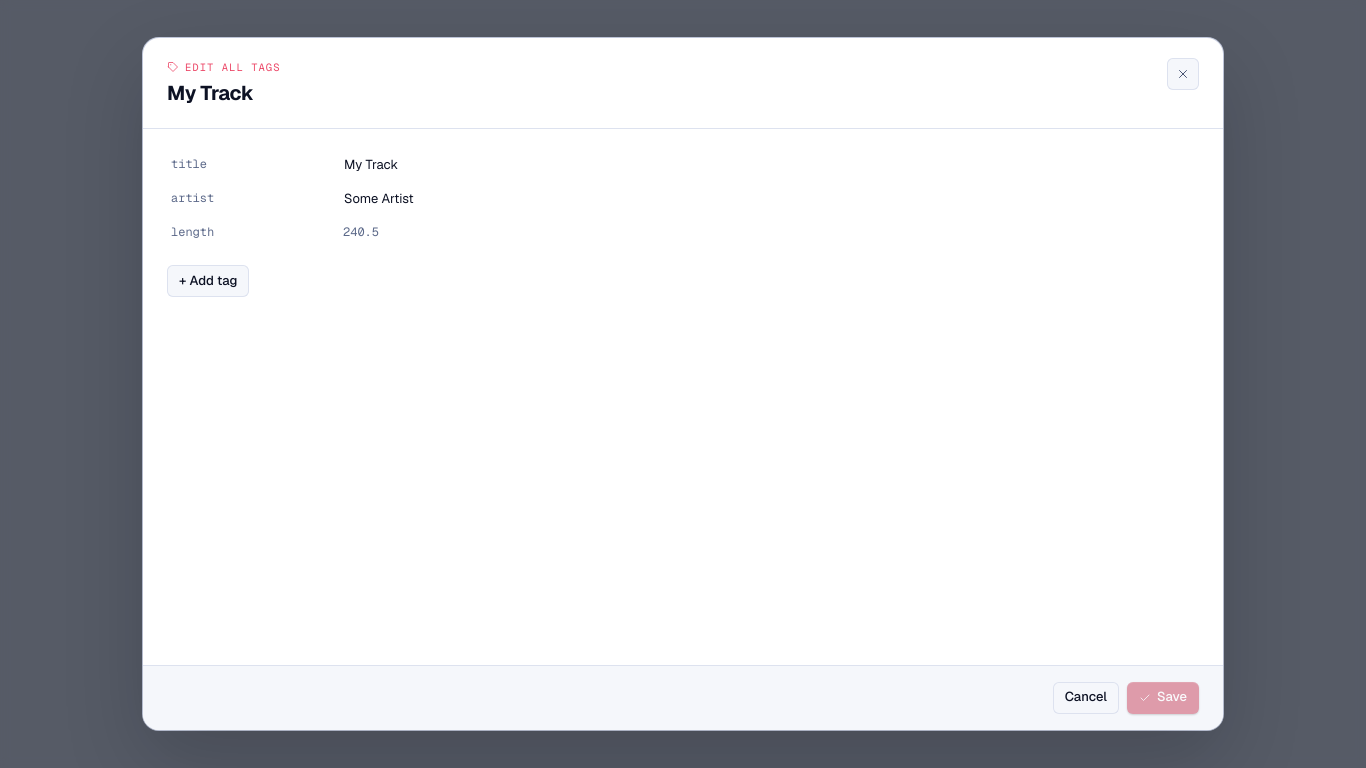
Test: ItemTagsEditor › shows error when PATCH returns non-ok status
Replace the text in the field showing "My Track" next to "title" with "Changed" at (753, 165), box [335,151,1171,179]
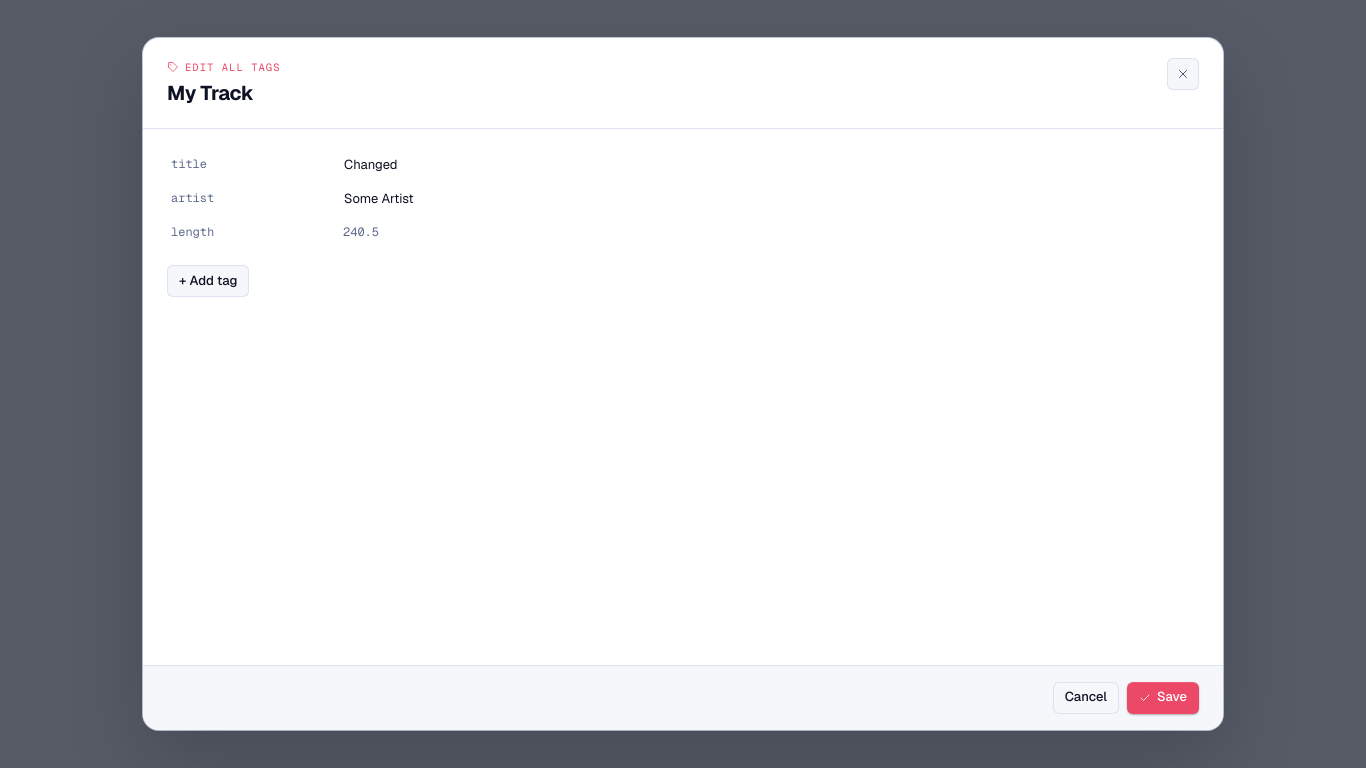
Click the button "Save" at (1163, 698), box [1127,682,1199,714]
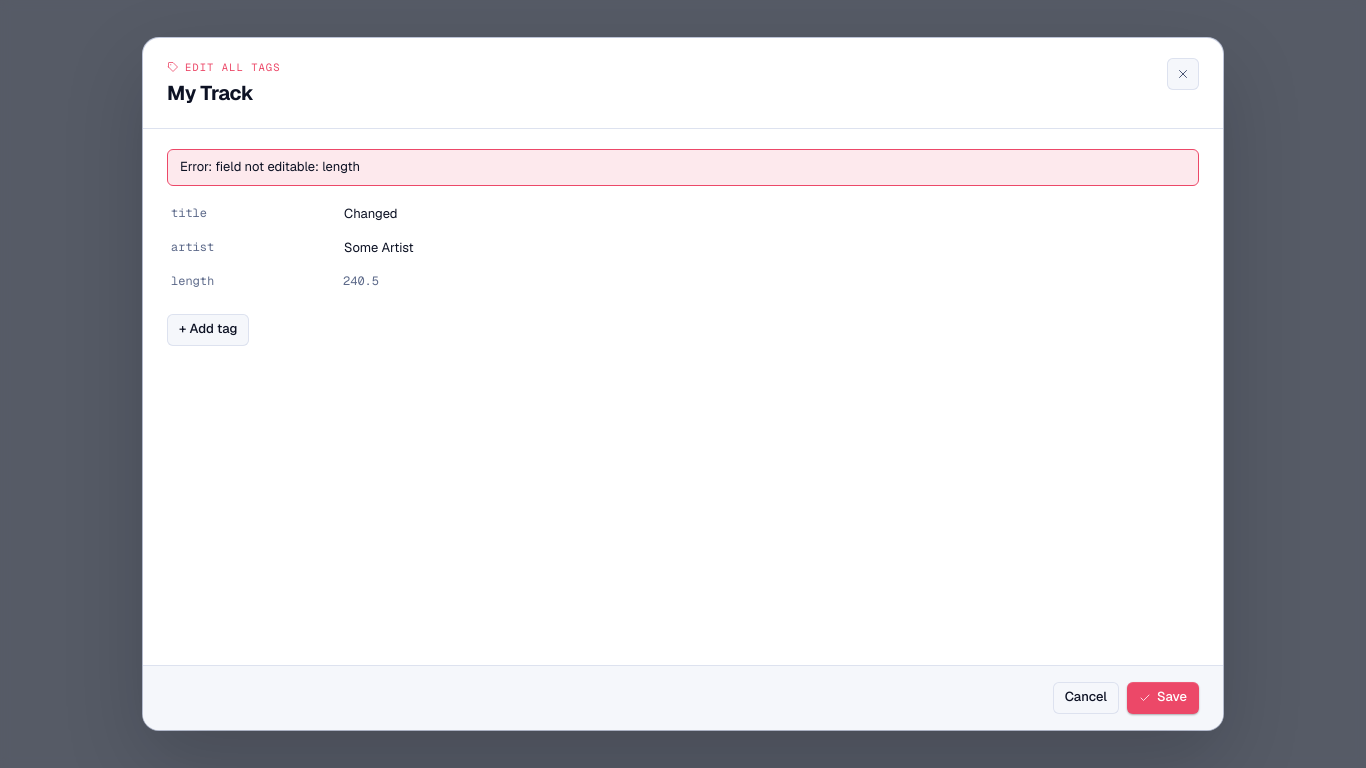
Expected: the text "Error: field not editable: length" is shown, [167,149,1199,186]
